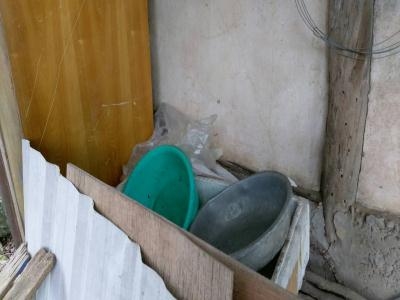bowl: (186, 169, 295, 271), (116, 142, 202, 233)
